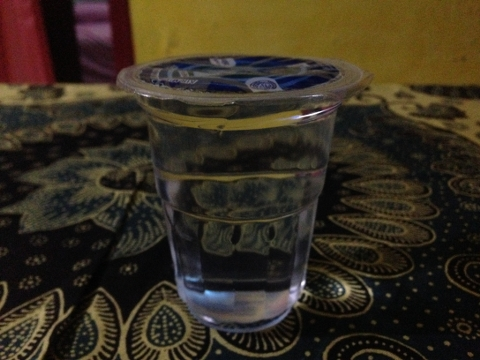tempat minum: (115, 52, 364, 330)
